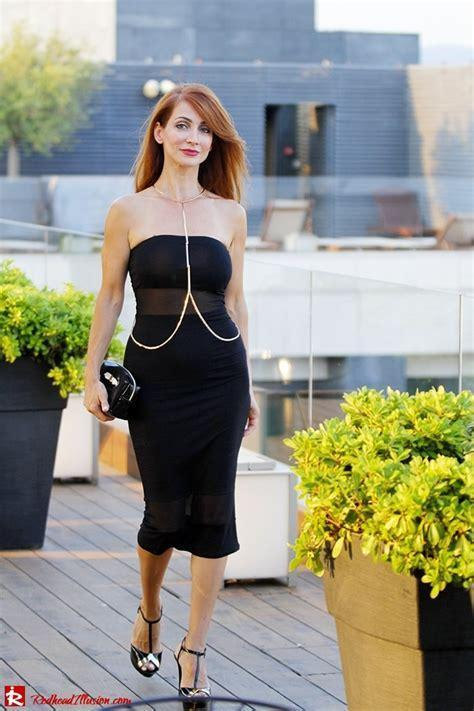dress: (122, 235, 248, 560)
